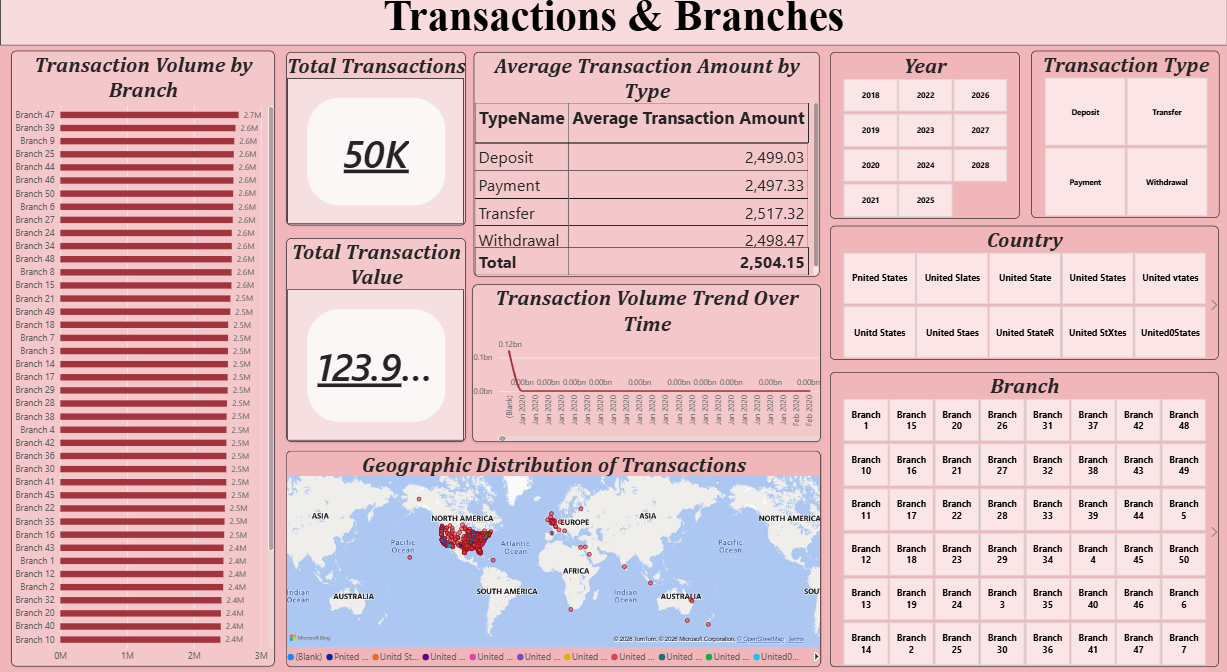

Layout of this report page (visuals, bound fields, positions):
{"tool":"powerbi","page":{"name":"Transactions","canvas":[1920,1080],"ordinal":3},"visuals":[{"type":"cardVisual","title":"Total Transactions","fields":{"Data":["_Measures.Transaction Count"]},"box":[447,101.3,280.5,271.4],"z":0},{"type":"cardVisual","title":"Total Transaction Value","fields":{"Data":["_Measures.Total Transaction Amount"]},"box":[448.8,392.7,280.5,318.5],"z":1000},{"type":"lineChart","title":"Transaction Volume Trend Over Time","fields":{"Y":["_Measures.Total Transaction Amount"],"Category":["_Date Transactions.MonthYear"]},"box":[738.3,465.1,544.7,246.1],"z":2000},{"type":"barChart","title":"Transaction Volume by Branch","fields":{"Category":["branches.BranchName"],"Y":["_Measures.Total Transaction Amount"]},"box":[18.3,100.7,411.9,962.9],"z":3000},{"type":"tableEx","title":"Average Transaction Amount by Type","fields":{"Values":["transaction_types.TypeName","_Measures.Average Transaction Amount"]},"box":[742,101.3,541.1,351.1],"z":4000},{"type":"map","title":"Geographic Distribution of Transactions","fields":{"Category":["addresses.City"],"Series":["addresses.Country"]},"box":[447,725.7,836.1,338.4],"z":5000},{"type":"slicer","title":"Year","fields":{"Values":["_Date Transactions.Year"]},"box":[1299.3,101.3,296.8,260.6],"z":6000},{"type":"slicer","title":"Transaction Type","fields":{"Values":["transaction_types.TypeName"]},"box":[1612.8,100.7,294.7,261.8],"z":7000},{"type":"slicer","title":"Branch","fields":{"Values":["branches.BranchName"]},"box":[1299.3,602.6,608,461.5],"z":8000},{"type":"slicer","title":"Country","fields":{"Values":["addresses.Country"]},"box":[1299.3,372.8,608,209.9],"z":9000},{"type":"shape","box":[0,0,1920.4,91.5],"z":9001}]}

Visuals, with their boxes in screenshot pixels (x1, y1, x2, y2), scaled from the page's 1920x1080 canvas onto the 1227x672 screenshot:
"Total Transactions" cardVisual: left=286, top=63, right=465, bottom=232
"Total Transaction Value" cardVisual: left=287, top=244, right=466, bottom=443
"Transaction Volume Trend Over Time" lineChart: left=472, top=289, right=820, bottom=443
"Transaction Volume by Branch" barChart: left=12, top=63, right=275, bottom=662
"Average Transaction Amount by Type" tableEx: left=474, top=63, right=820, bottom=281
"Geographic Distribution of Transactions" map: left=286, top=452, right=820, bottom=662
"Year" slicer: left=830, top=63, right=1020, bottom=225
"Transaction Type" slicer: left=1031, top=63, right=1219, bottom=226
"Branch" slicer: left=830, top=375, right=1219, bottom=662
"Country" slicer: left=830, top=232, right=1219, bottom=363
shape: left=0, top=0, right=1226, bottom=57
